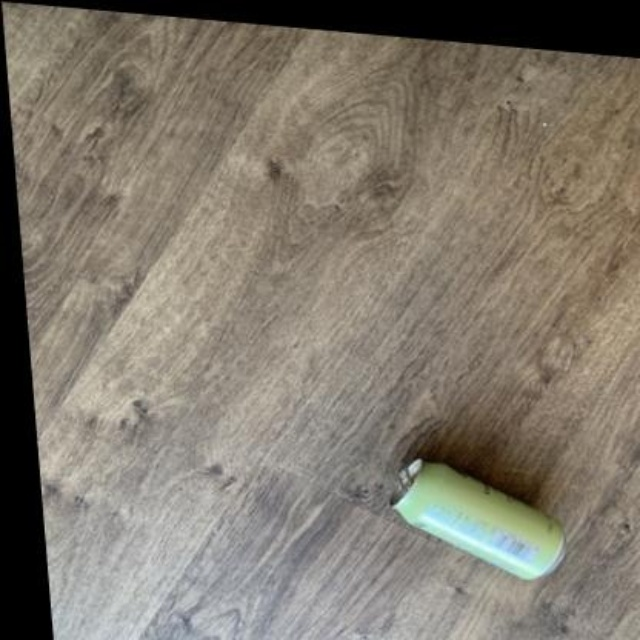trash: (394, 460, 563, 578)
